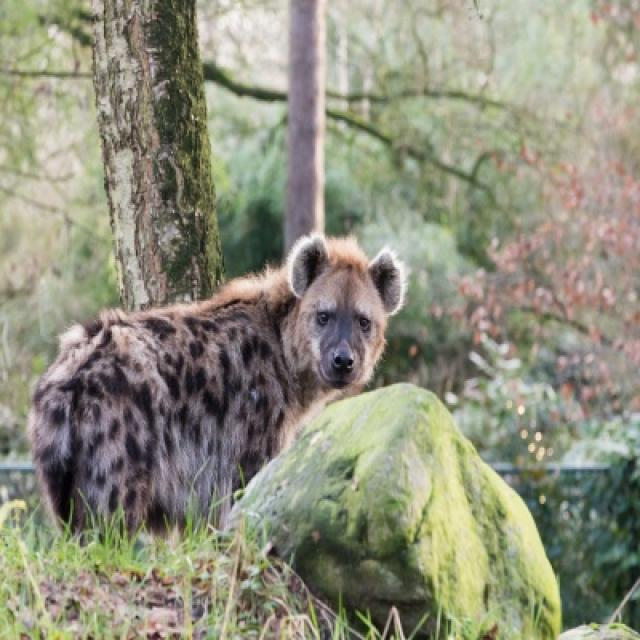hyena: (27, 235, 408, 536)
